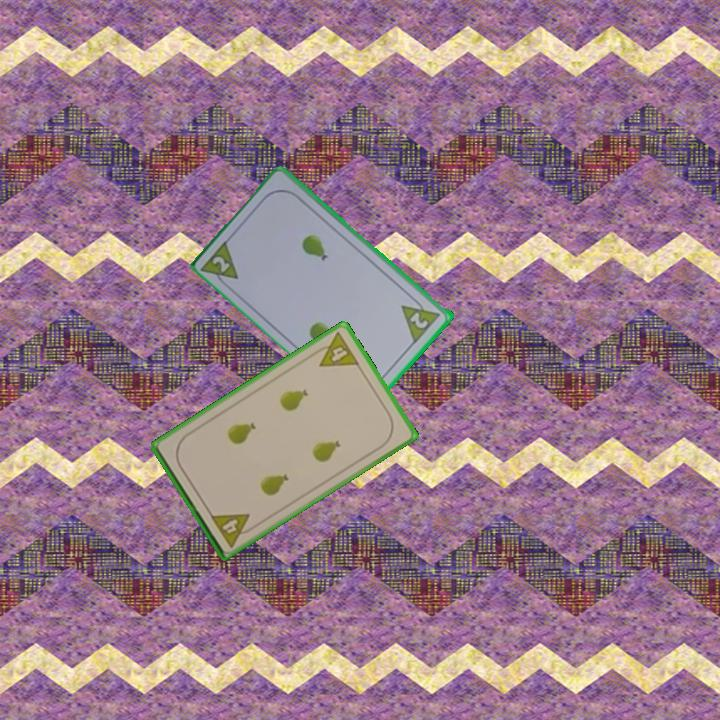2p: (407, 308, 431, 332), (209, 252, 233, 275)
4p: (309, 328, 362, 370), (207, 509, 259, 550)
